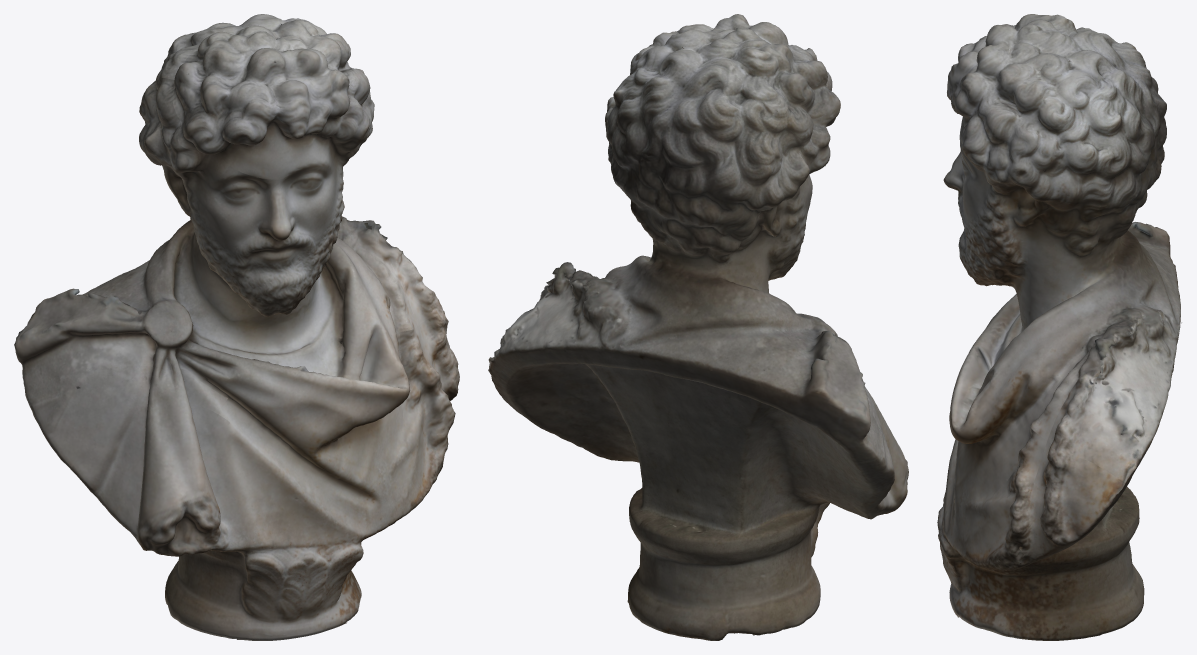
Rendered from Aurelius2.glb.
3 renders of one model, left to right at view 1: azimuth 30°, elevation 25°; view 2: azimuth 150°, elevation 25°; view 3: azimuth 270°, elevation 25°, orthographic.
Parts seen in each view (by area): view 1: Object_2; view 2: Object_2; view 3: Object_2.
Boxes of the visible parts, box(x1,y1,x2,y2) form: Object_2: box(14, 14, 459, 640); Object_2: box(488, 14, 908, 640); Object_2: box(937, 14, 1181, 640).
Size of the model in its own units: 6.01 by 8.24 by 3.2.
1 material, 1 textured.
